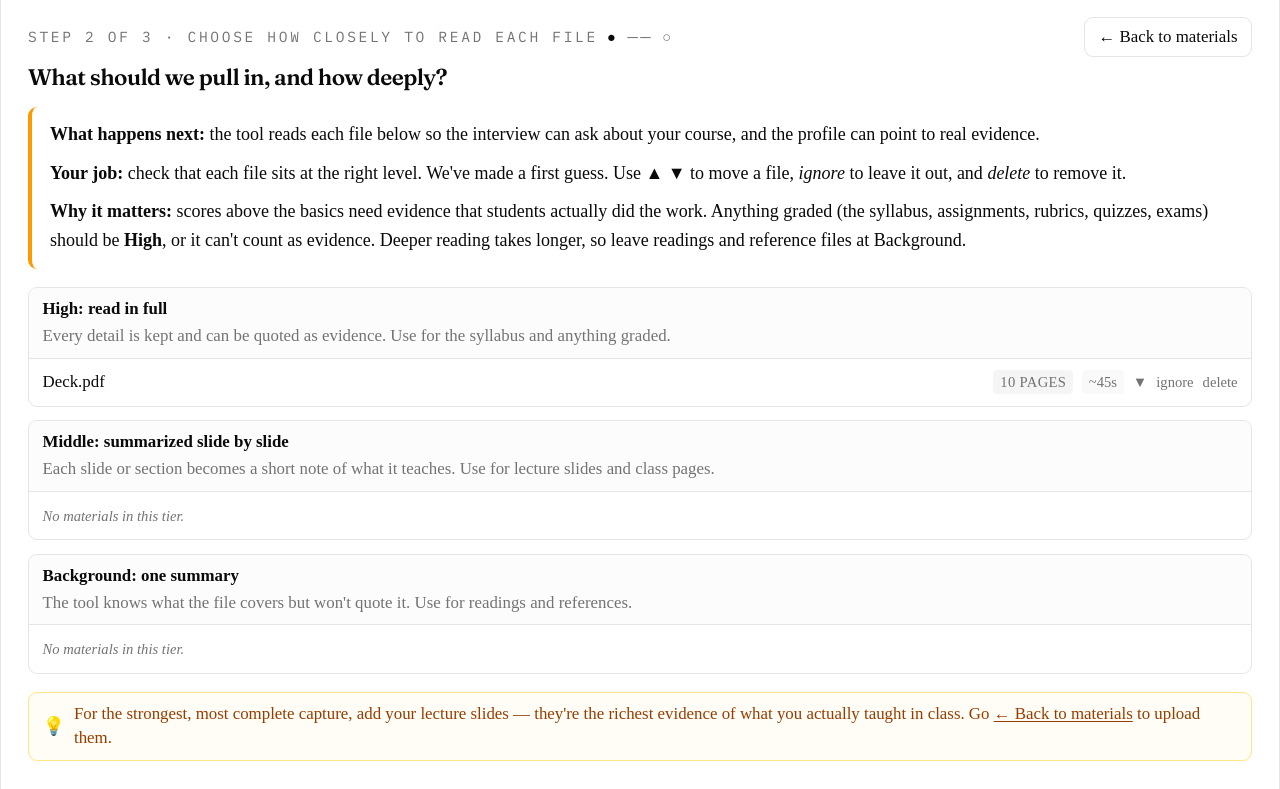
Test: triage — moving a read file › marks it unread so the button reads it again at the new level
The image size is (1280, 789).
Click the button named "move down" at (1140, 382), box [1133,372,1147,392]
(page scrolled)
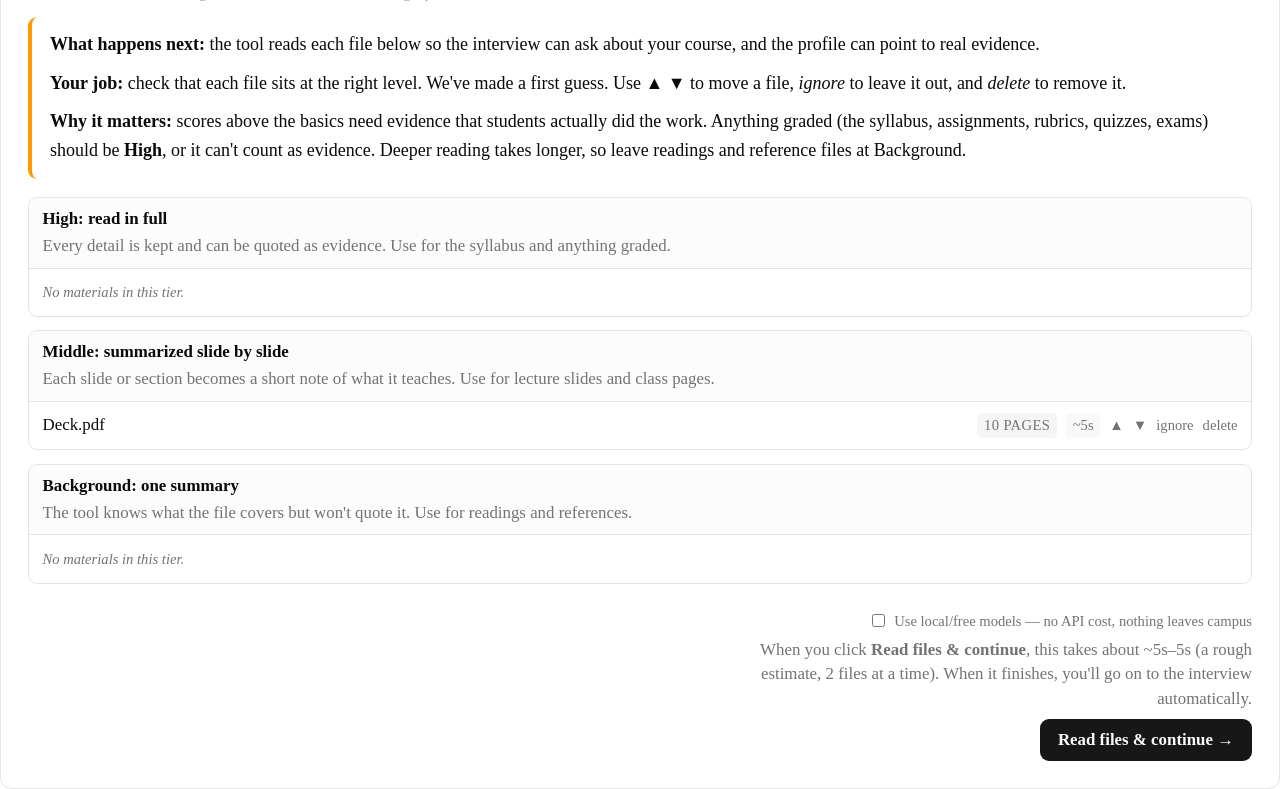
expect the button "Read files & continue →" is shown: met, box [1040,719,1252,762]
